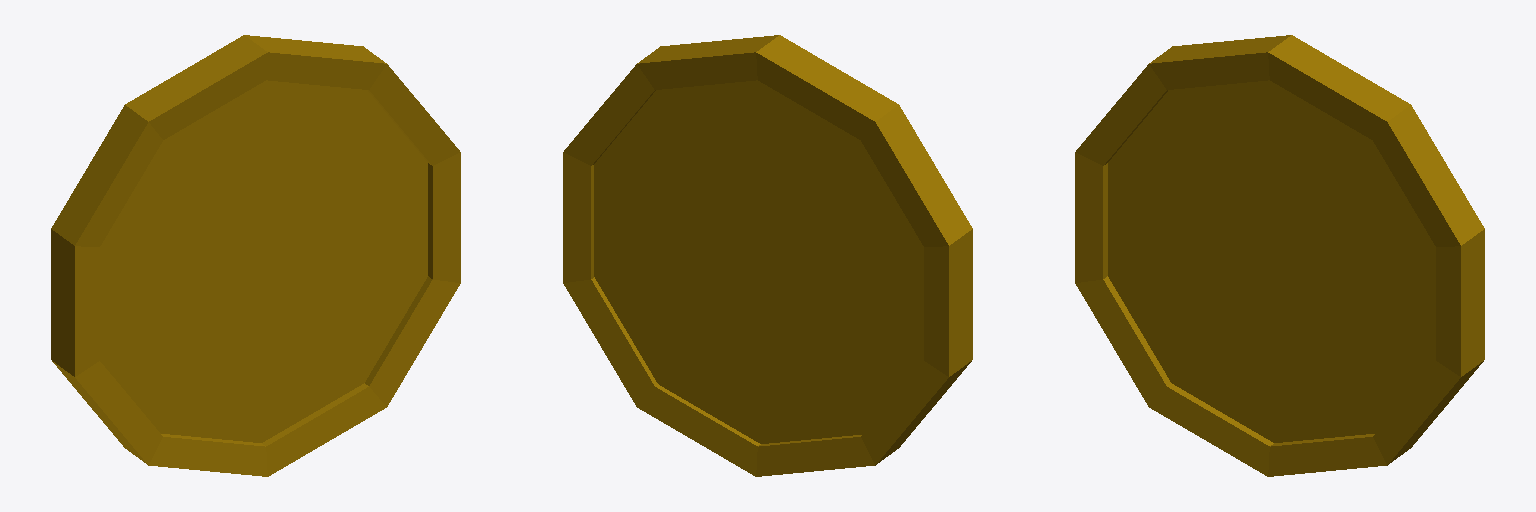
File: coin.obj
3 views of the same model, side by side, from view 1: azimuth 30°, elevation 25°; view 2: azimuth 150°, elevation 25°; view 3: azimuth 330°, elevation 25° (orthographic).
Parts seen in each view (by area): view 1: Cylinder; view 2: Cylinder; view 3: Cylinder.
Boxes of the visible parts, x1,y1,x2,y2 form: Cylinder: [51, 35, 460, 476]; Cylinder: [563, 35, 972, 476]; Cylinder: [1075, 35, 1484, 476].
Size of the model in its own units: 1.9 by 2 by 0.2026.